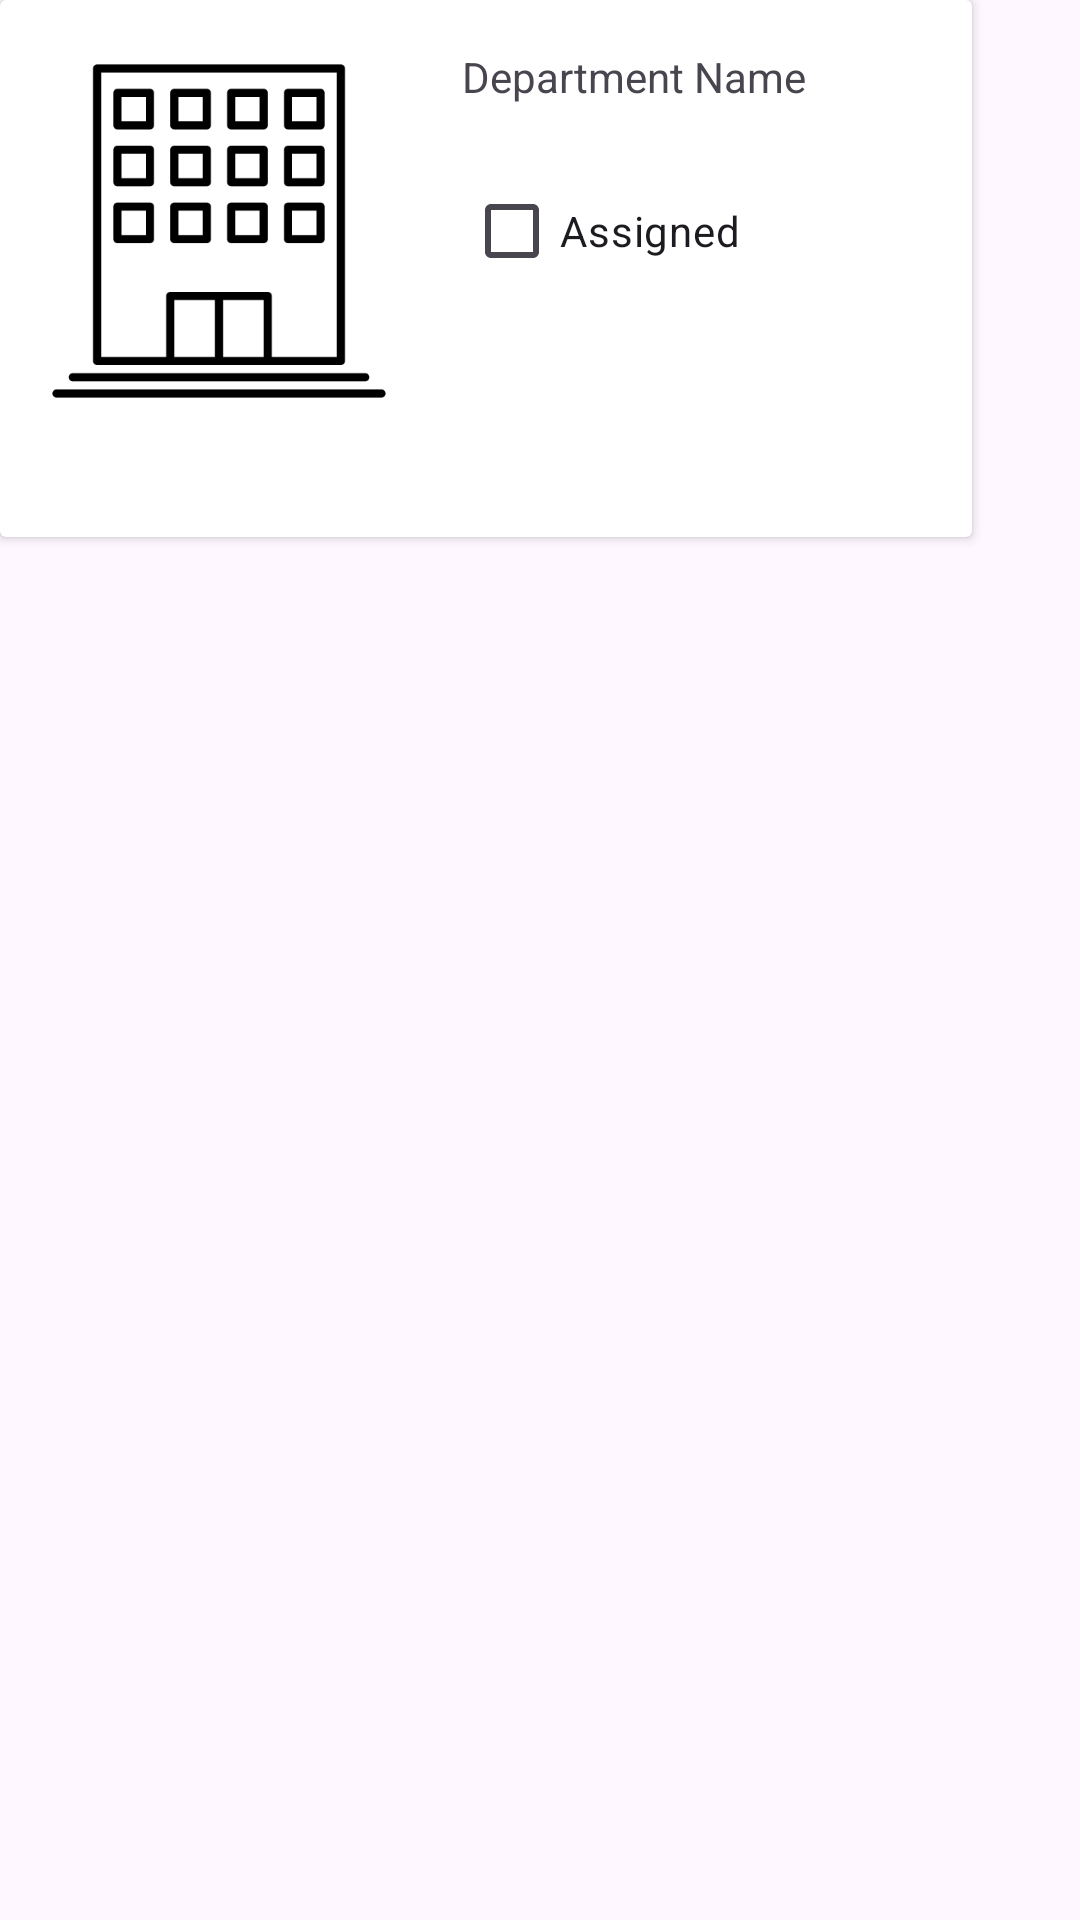

Point at icon controls on the screen. Image size 1080×1920, points as [x,y].
project image: [219,231]
